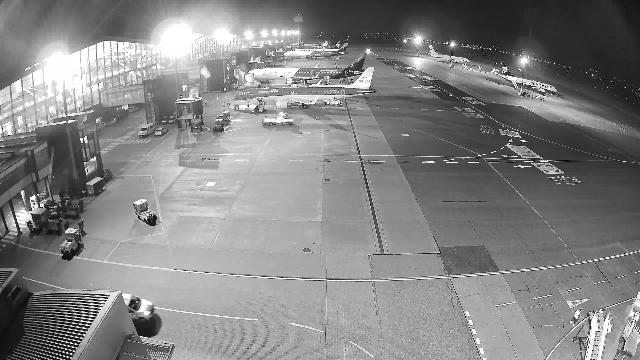Aircraft: (232, 67, 378, 109), (247, 52, 366, 85), (501, 60, 558, 95), (284, 43, 349, 60), (426, 45, 470, 64), (293, 40, 341, 51)
Airport_Tractor: (59, 228, 82, 257), (133, 198, 157, 224), (216, 111, 231, 121), (323, 99, 343, 106), (213, 120, 224, 132)
Baggage_Trolley: (85, 177, 103, 196), (44, 219, 63, 235), (30, 208, 49, 223), (26, 219, 43, 232), (64, 220, 84, 231), (46, 205, 61, 217), (63, 208, 79, 218), (67, 200, 84, 209)
Conveyor_Belt: (254, 101, 265, 113)
Ground_Crew: (568, 309, 582, 326), (226, 100, 229, 106), (223, 101, 225, 109)
